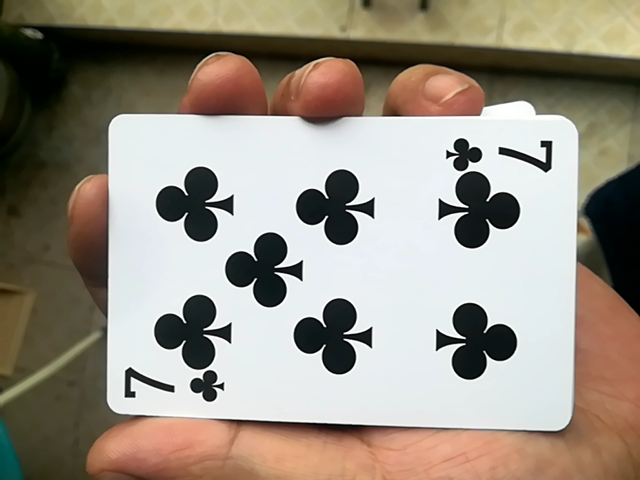mh 7: (87, 107, 577, 438)
